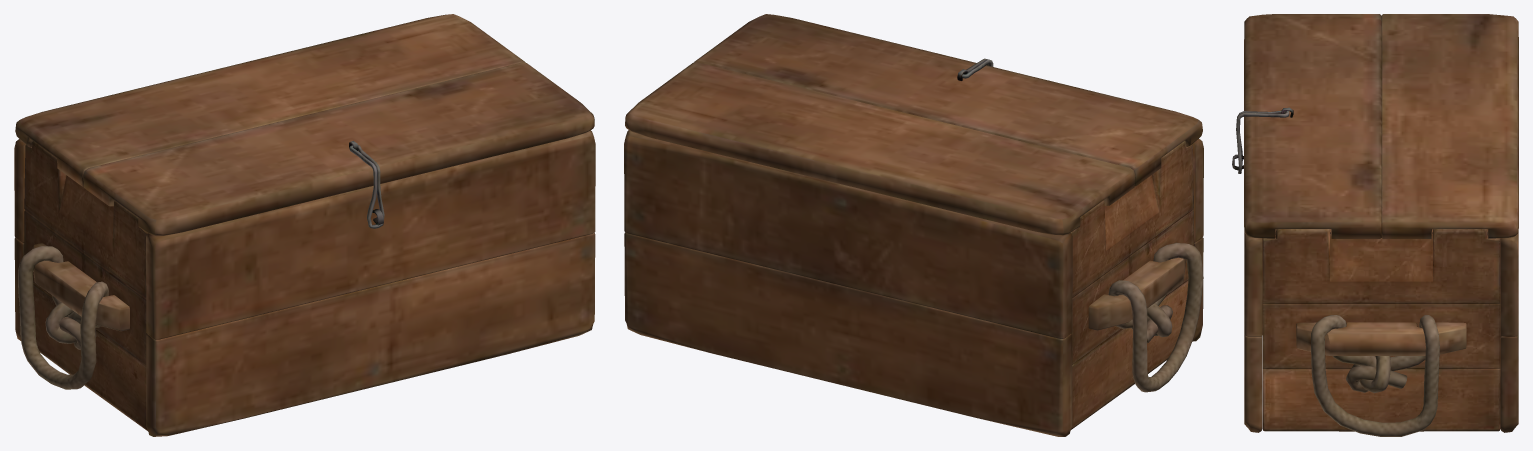
Rendered from wooden_crate_01.glb.
3 renders of one model, left to right at view 1: azimuth 30°, elevation 25°; view 2: azimuth 150°, elevation 25°; view 3: azimuth 270°, elevation 25°, orthographic. The views are drawn at different scales.
Visible parts, largest first — view 1: wooden_crate_01_lid; view 2: wooden_crate_01_lid; view 3: wooden_crate_01_lid.
Boxes of the visible parts, box(x1,y1,x2,y2) form: wooden_crate_01_lid: box(14, 14, 595, 436); wooden_crate_01_lid: box(624, 14, 1203, 436); wooden_crate_01_lid: box(1232, 14, 1518, 436).
Size of the model in its own units: 0.8253 by 0.3495 by 0.4085.
1 material, 1 textured.
